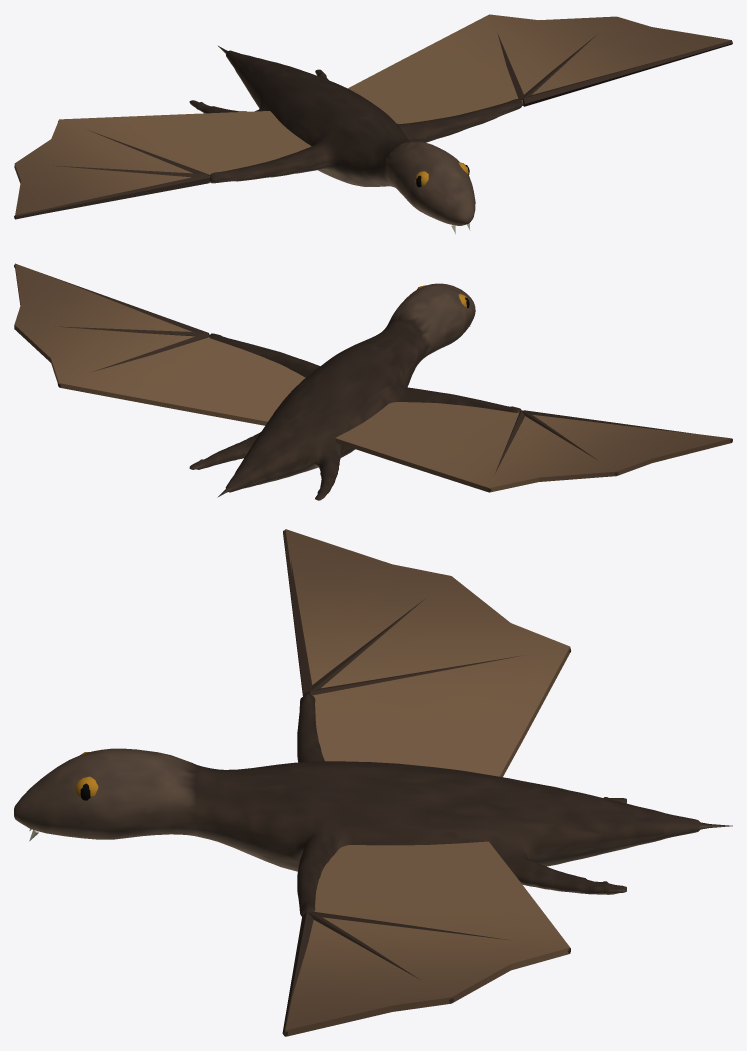
Rendered from YiQi.fbx.
3 renders of one model, top to bottom at view 1: azimuth 30°, elevation 25°; view 2: azimuth 150°, elevation 25°; view 3: azimuth 270°, elevation 25°, orthographic. The views are drawn at different scales.
Parts seen in each view (by area): view 1: YiQi; view 2: YiQi; view 3: YiQi.
Boxes of the visible parts, box(x1,y1,x2,y2) form: YiQi: box(14, 14, 732, 234); YiQi: box(14, 263, 732, 500); YiQi: box(14, 529, 732, 1036).
Bounding box in the file's own units: 1 × 0.117 × 0.6059.
